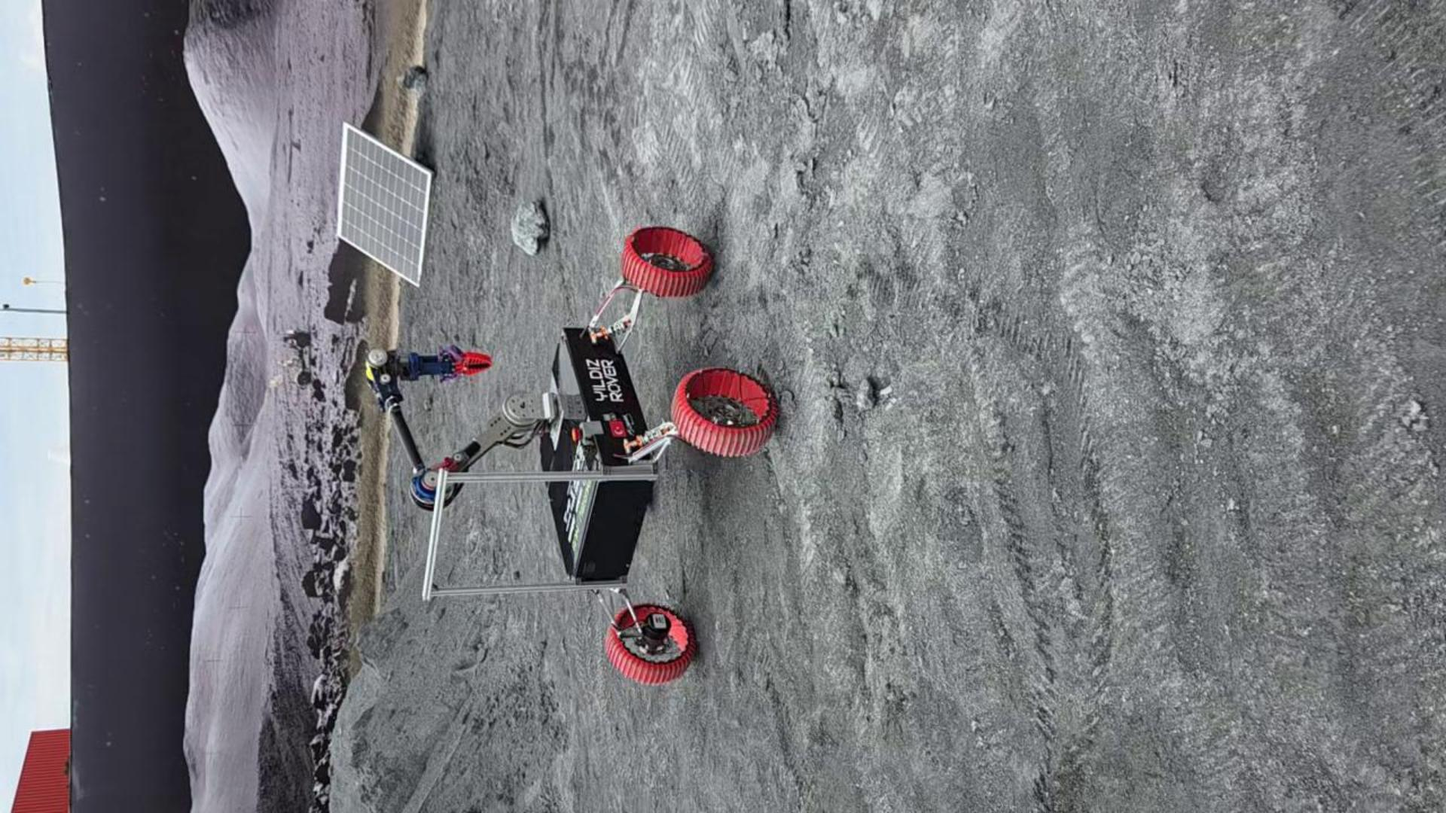rock: (511, 200, 549, 255)
